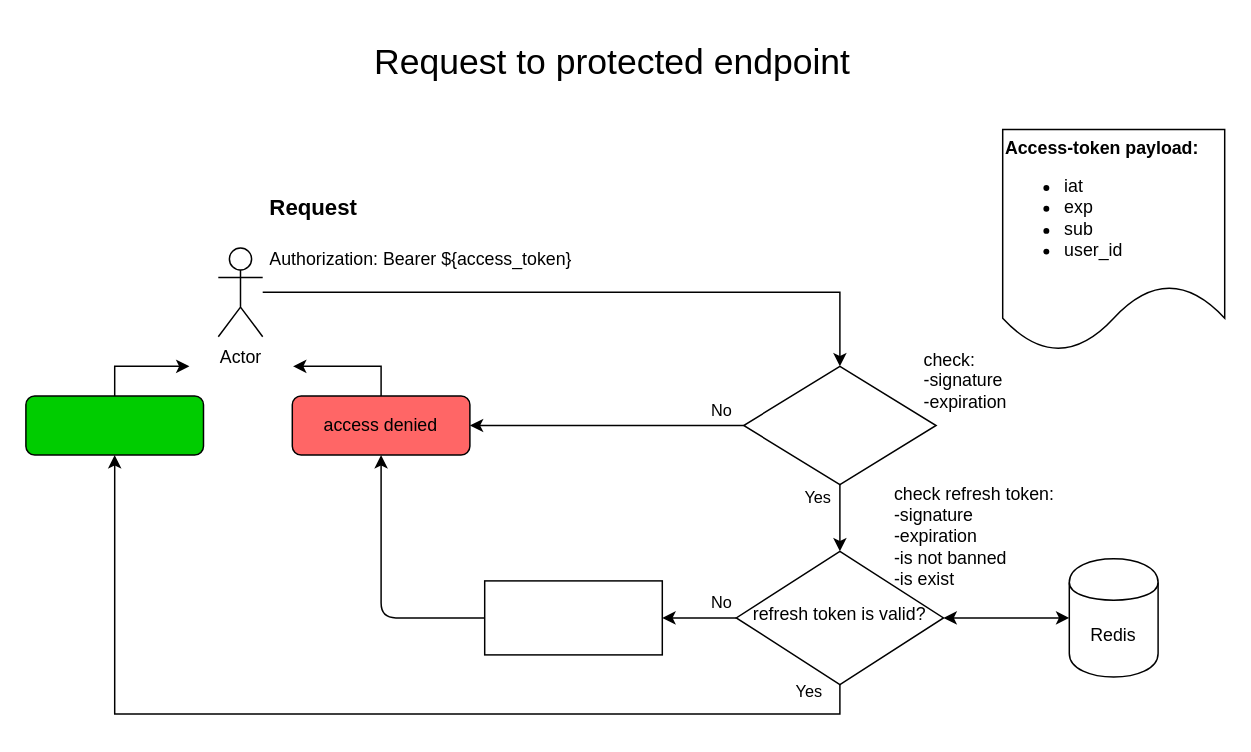
The diagram is 1251 pixels wide and 752 high, and some of its shapes have lost their labels. Here are the shapes that lost their labels. From the top down, the centre of each, then its label:
At (x=114, y=424): "access allowed".
At (x=839, y=425): "is valid ?".
At (x=572, y=617): "remove refresh token from DB".
